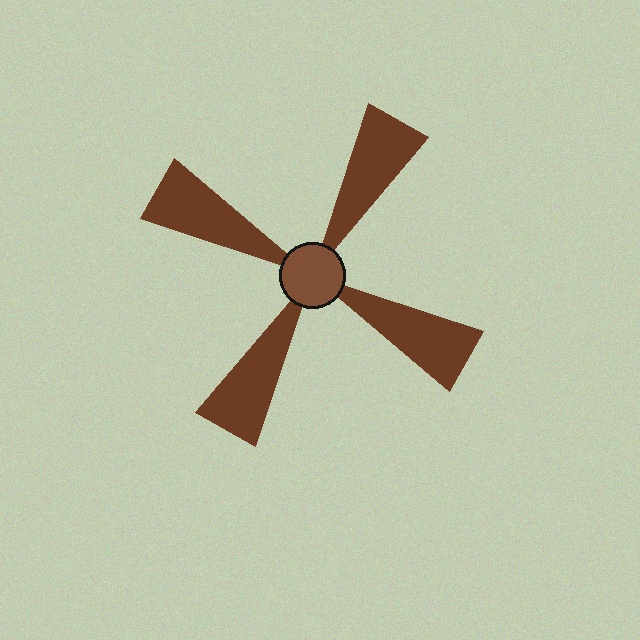fan: (105, 68, 519, 482)
